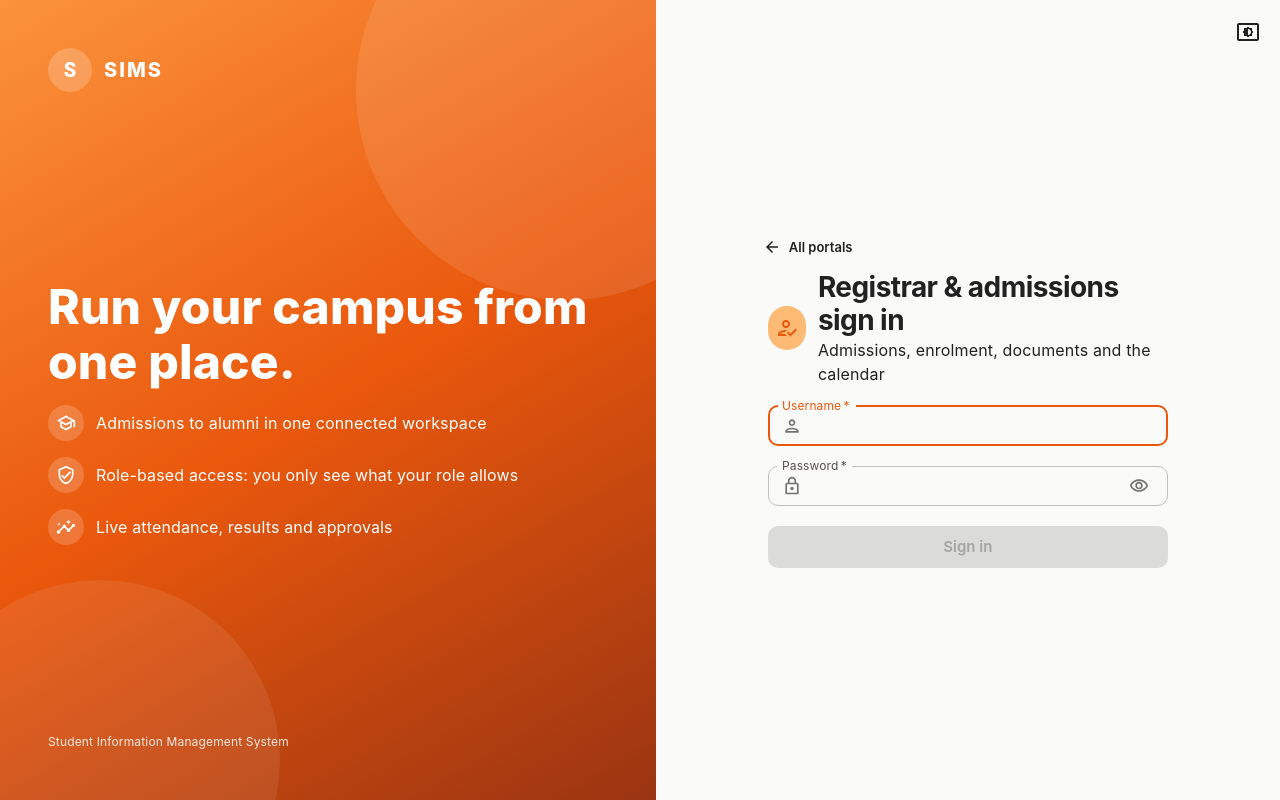
Test case: application shell › signs in and shows the dashboard for the user
Step 1. Type "registrar" into the field labelled "Username *" → (989, 426), box [810,406,1168,446]
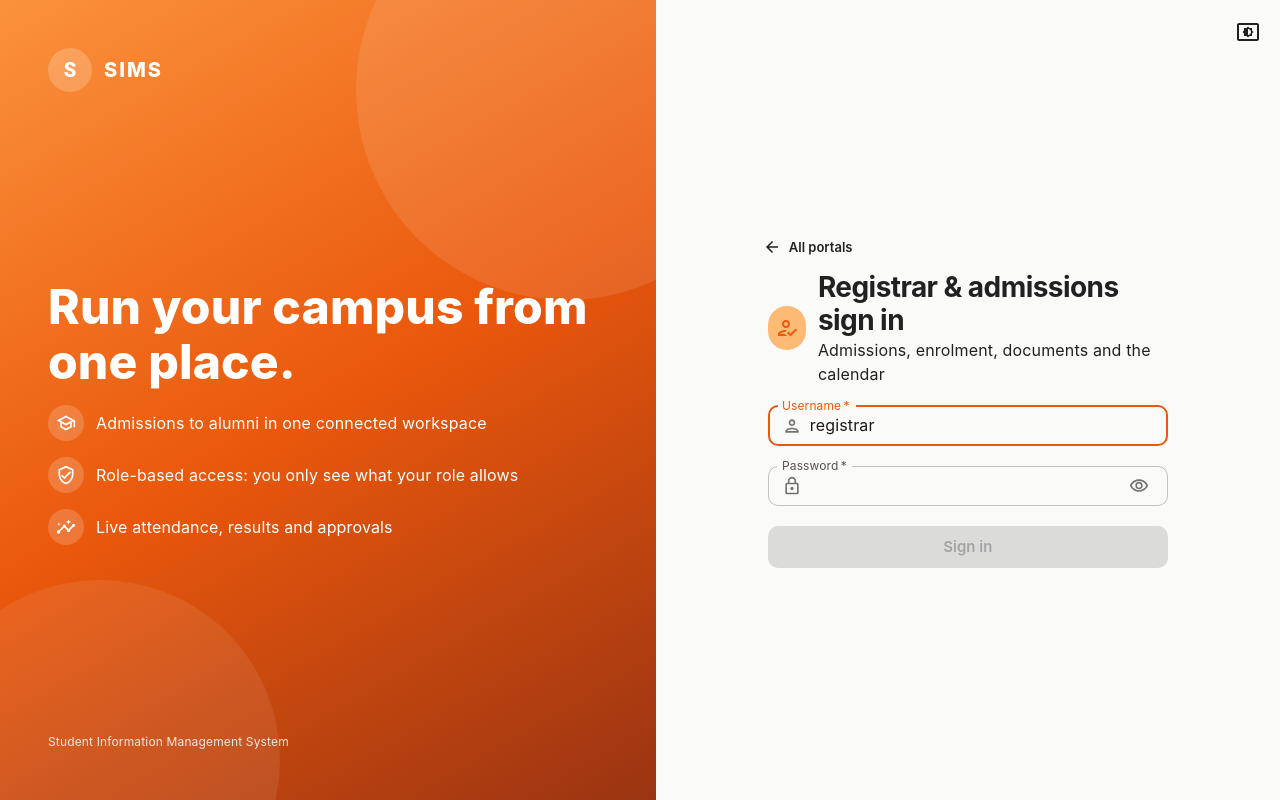
Step 2. Type "Whatever#12345" into the password field labelled "Password *" → (963, 486), box [810,466,1116,506]
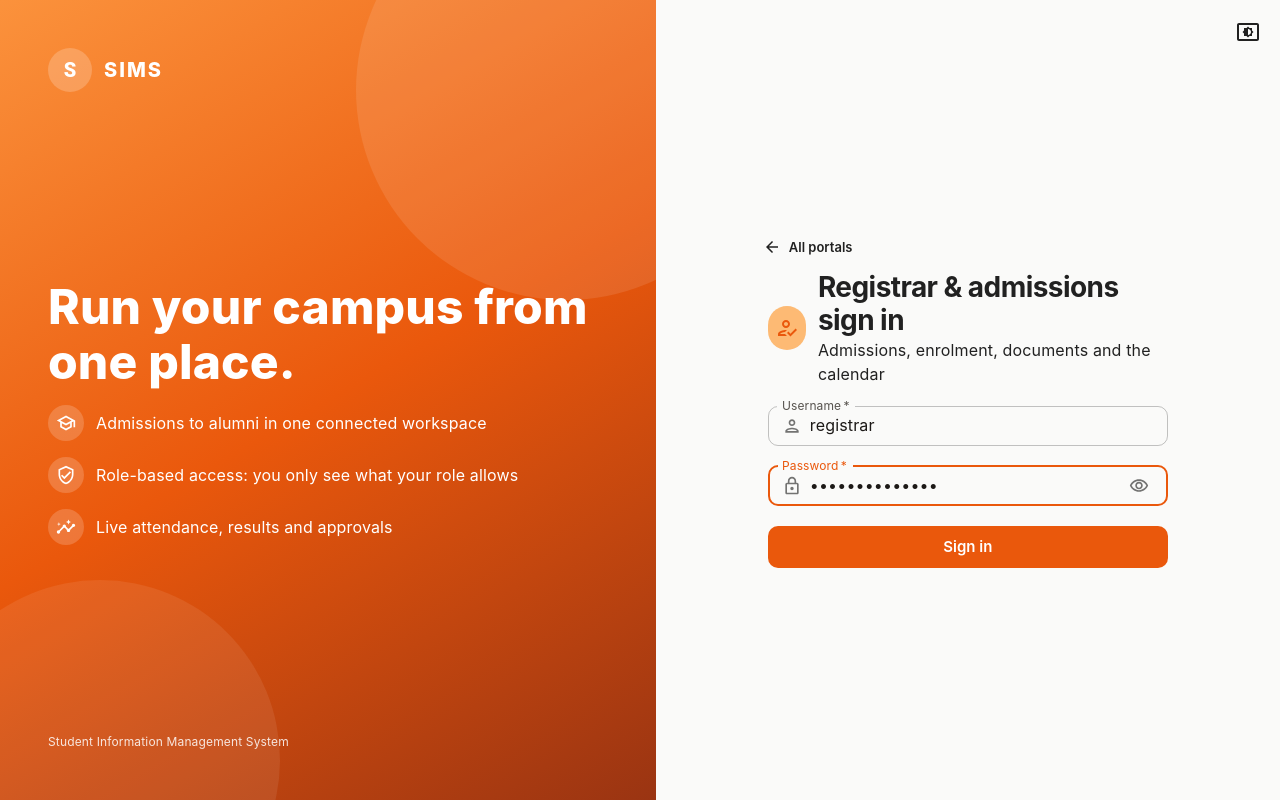
Step 3. Click the button "Sign in" → click(968, 547), box [768,526,1168,568]
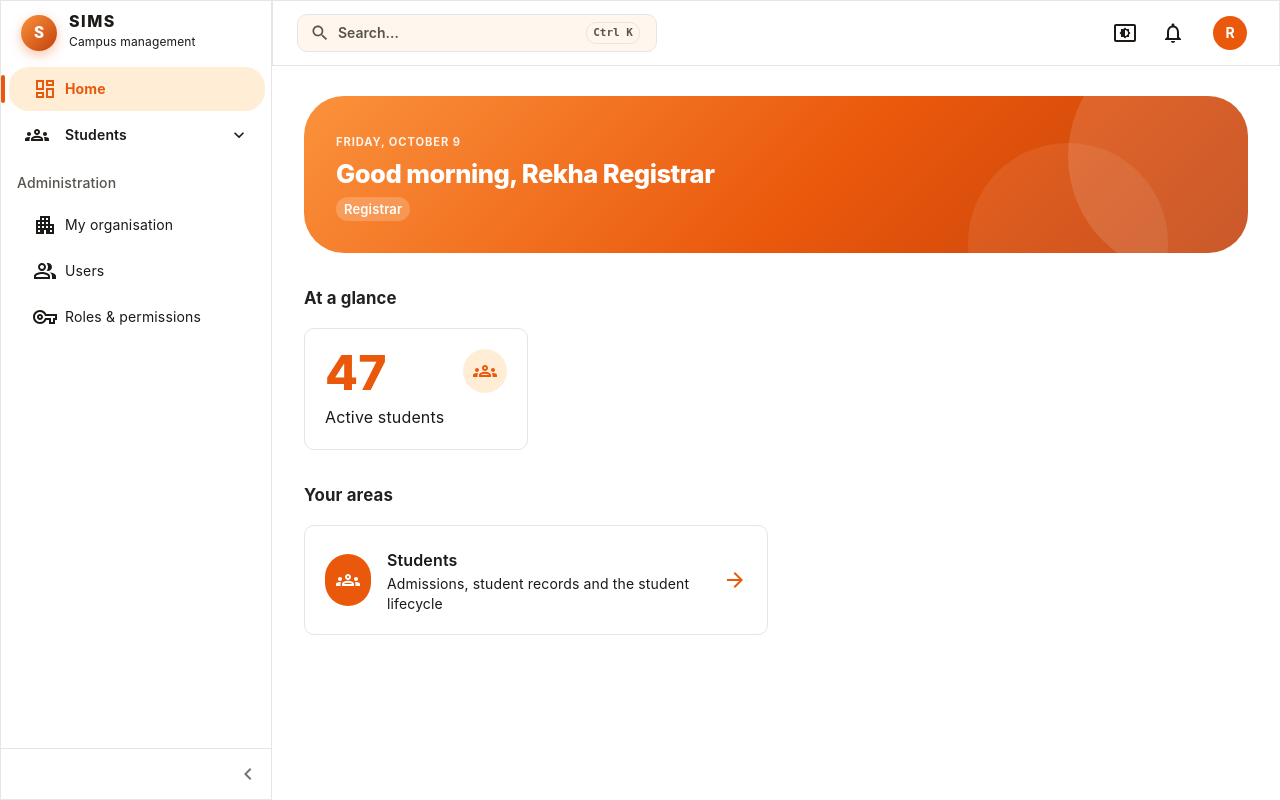
expect the heading "Good morning, Rekha Registrar" is shown: met, box [336,158,714,189]
expect the heading "47" is shown: met, box [325,343,387,402]
